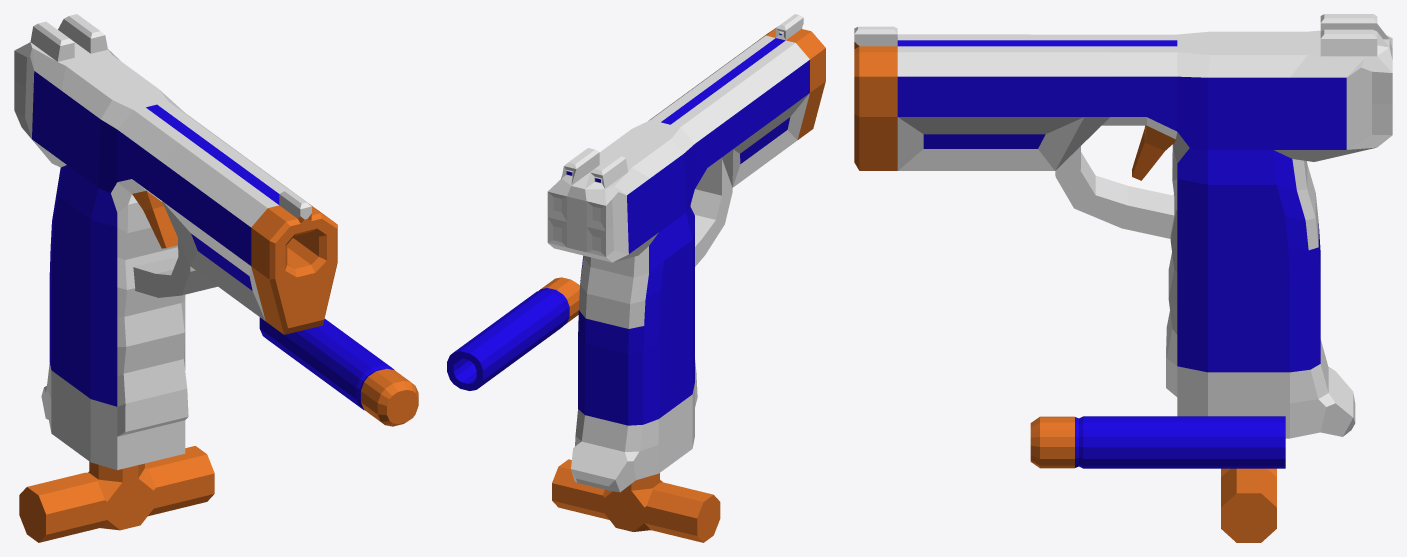
The model's file is nerf gun.fbx.
The picture shows the model from 3 angles, left to right: view 1: azimuth 30°, elevation 25°; view 2: azimuth 150°, elevation 25°; view 3: azimuth 270°, elevation 25°; orthographic projection. The views are drawn at different scales.
Parts seen in each view (by area): view 1: Cube, Cube.001, Cube.002; view 2: Cube, Cube.001, Cube.002; view 3: Cube, Cube.002, Cube.001.
Boxes of the visible parts, x1,y1,x2,y2 form: Cube: (14, 14, 337, 470); Cube.001: (19, 446, 214, 542); Cube.002: (259, 317, 418, 426); Cube: (547, 14, 825, 492); Cube.001: (552, 459, 720, 542); Cube.002: (447, 277, 579, 390); Cube: (854, 14, 1392, 438); Cube.002: (1030, 416, 1285, 468); Cube.001: (1221, 468, 1276, 542).
Size of the model in its own units: 482 by 734 by 752.
